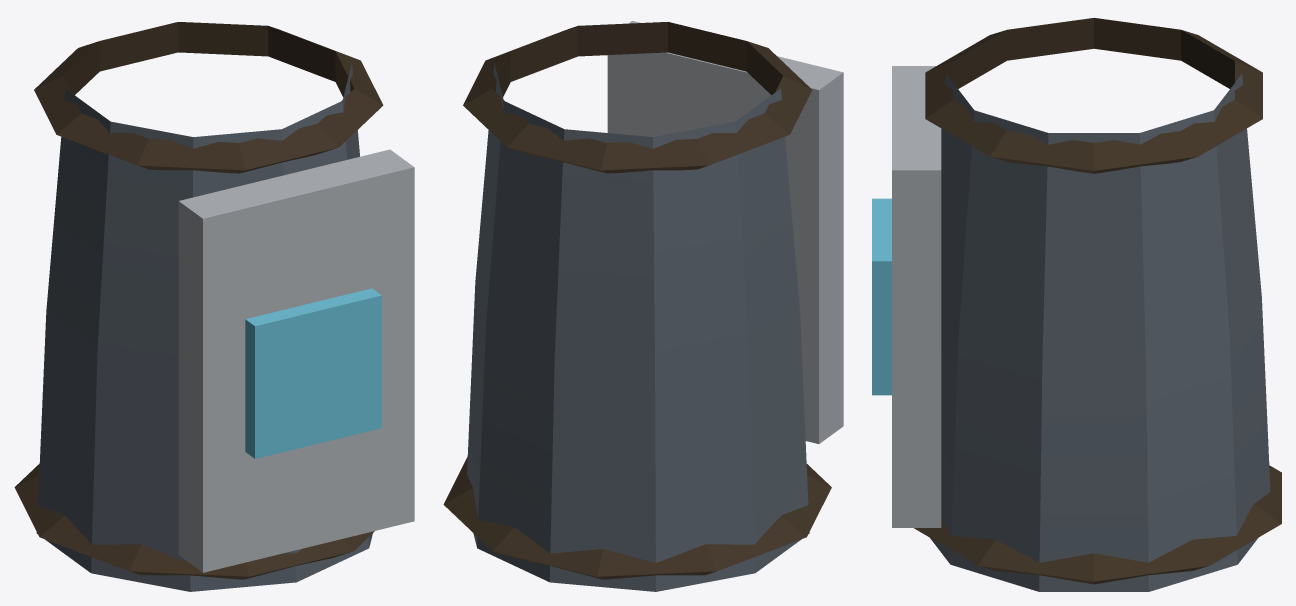
Rendered from bracer.glb.
3 renders of one model, left to right at view 1: azimuth 30°, elevation 25°; view 2: azimuth 150°, elevation 25°; view 3: azimuth 270°, elevation 25°, orthographic.
Visible parts, largest first — view 1: m; view 2: m; view 3: m.
Part boxes in pixels (x1=…): m: x1=14, y1=22, x2=414, y2=591; m: x1=443, y1=21, x2=843, y2=591; m: x1=872, y1=18, x2=1281, y2=591.
Bounding box in the file's own units: 0.08 × 0.1 × 0.083.
